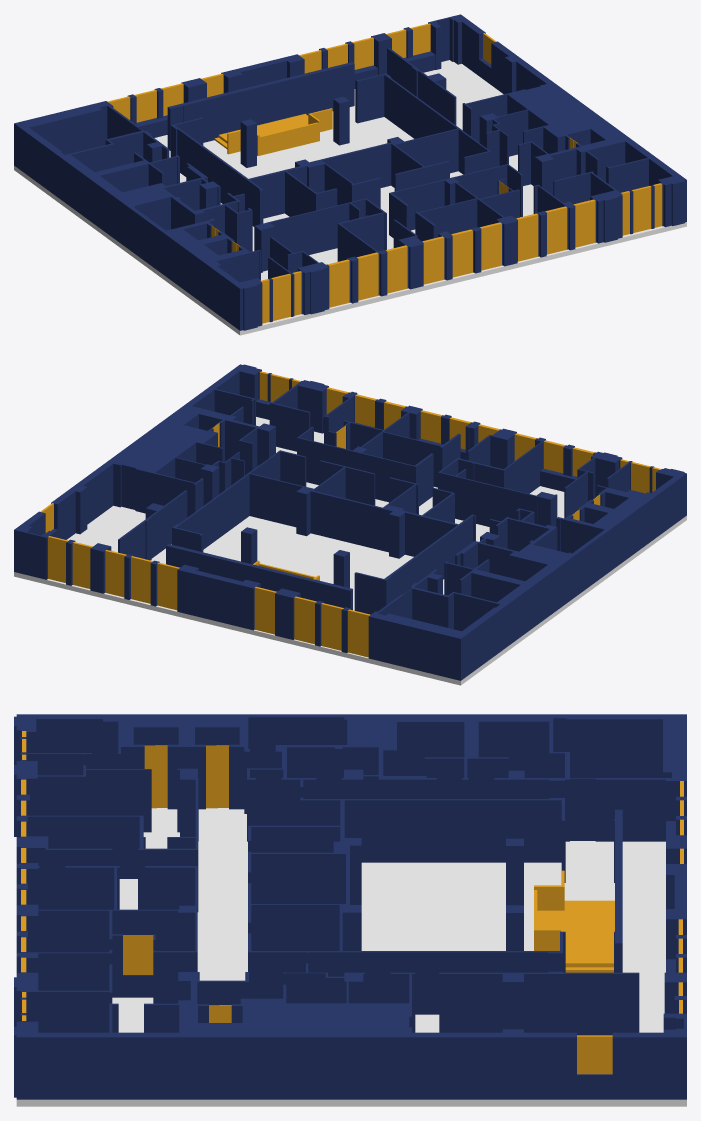
File: 16W 6th Floor.fbx
3 views of the same model, one above another, from view 1: azimuth 30°, elevation 25°; view 2: azimuth 150°, elevation 25°; view 3: azimuth 270°, elevation 25° (orthographic). The views are drawn at different scales.
Parts seen in each view (by area): view 1: Walls, Interior Member, Object_129; view 2: Walls, Interior Member, Object_129; view 3: Walls, Object_129, Interior Member.
Boxes of the visible parts, bbox=[...] form: Walls: bbox=[14, 14, 686, 330]; Interior Member: bbox=[107, 23, 662, 323]; Object_129: bbox=[14, 60, 686, 335]; Walls: bbox=[14, 364, 686, 680]; Interior Member: bbox=[40, 371, 661, 657]; Object_129: bbox=[14, 417, 686, 685]; Walls: bbox=[14, 714, 686, 1099]; Object_129: bbox=[16, 808, 686, 1106]; Interior Member: bbox=[21, 731, 683, 1074].
Size of the model in its own units: 1202 by 1058 by 120.
